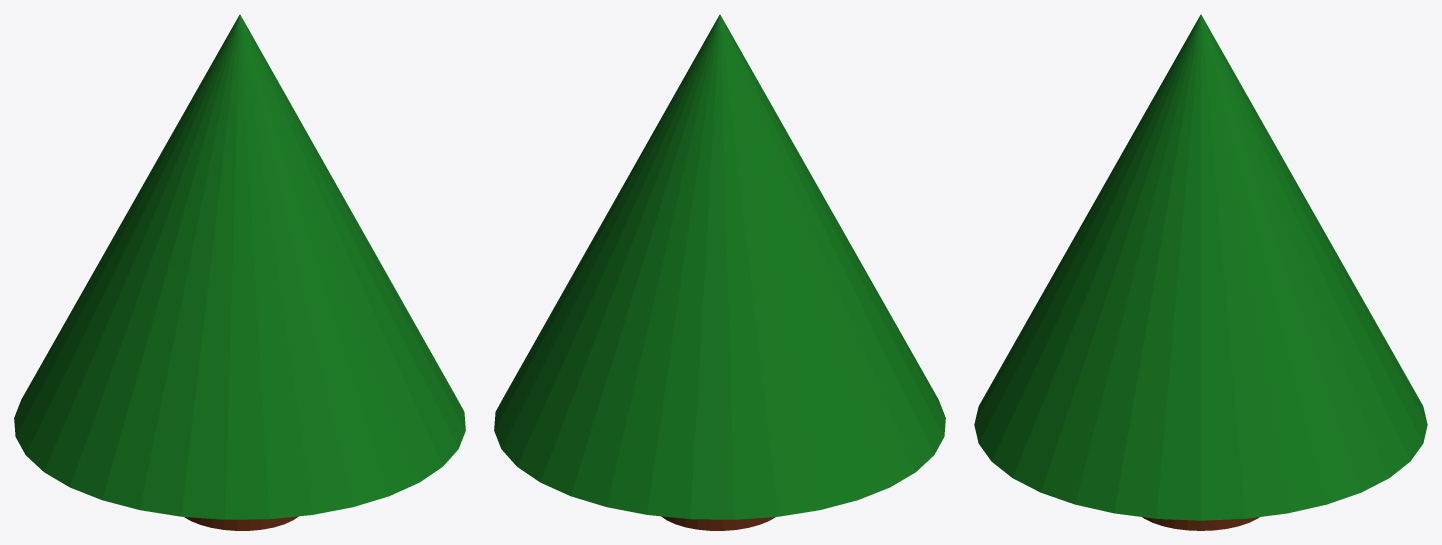
The model's file is Tree_pine_2.fbx.
The picture shows the model from 3 angles, left to right: view 1: azimuth 30°, elevation 25°; view 2: azimuth 150°, elevation 25°; view 3: azimuth 270°, elevation 25°; orthographic projection.
Parts seen in each view (by area): view 1: Cylinder; view 2: Cylinder; view 3: Cylinder.
Boxes of the visible parts, x1,y1,x2,y2 form: Cylinder: [14, 14, 465, 530]; Cylinder: [494, 14, 945, 530]; Cylinder: [974, 14, 1427, 530].
Size of the model in its own units: 406 by 483 by 406.
